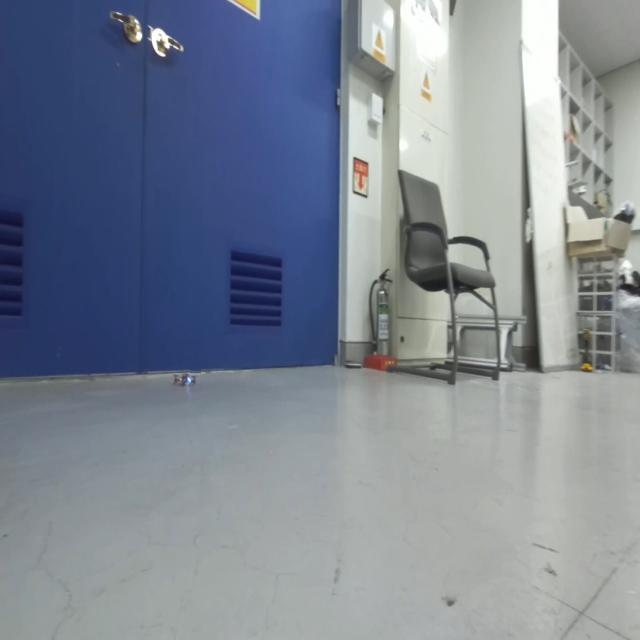crazyflie: (173, 367, 201, 393)
